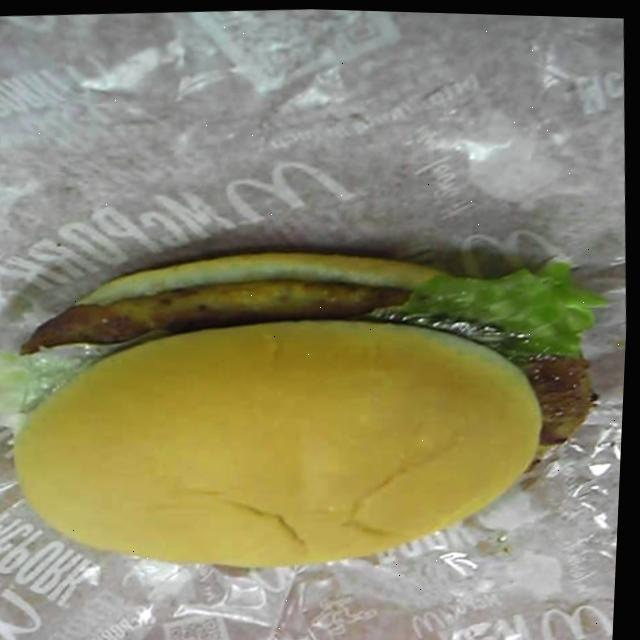汉堡快餐: (0, 225, 618, 595)
